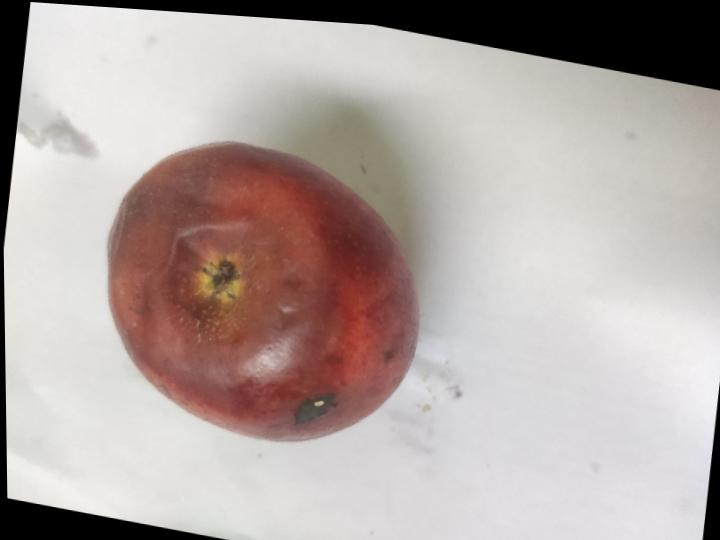apple: (108, 142, 419, 440)
bruise_discoloration: (108, 142, 399, 440)
rot_mold_decay: (295, 393, 337, 424)
